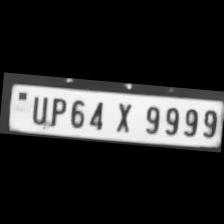4: (84, 95, 110, 130)
6: (64, 94, 88, 128)
9: (136, 100, 162, 134), (196, 104, 220, 138), (178, 104, 201, 138), (160, 102, 182, 136)
P: (44, 93, 66, 127)
U: (26, 92, 50, 125)
X: (108, 99, 138, 134)
